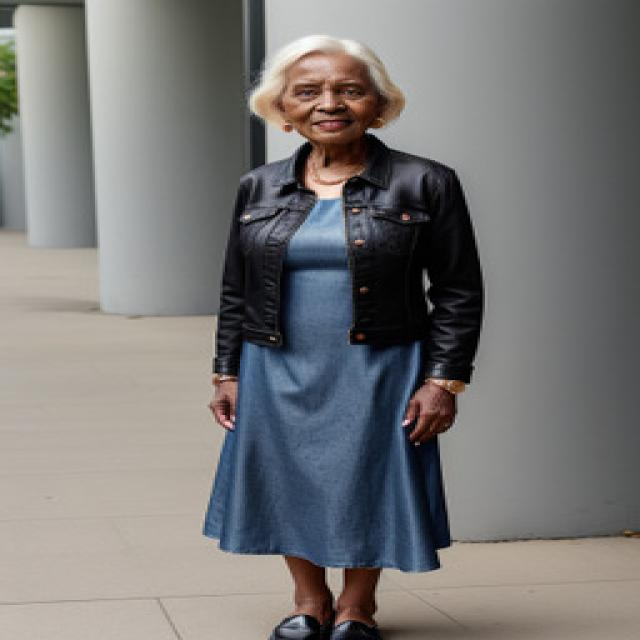Ai human 2: (180, 27, 510, 640)
